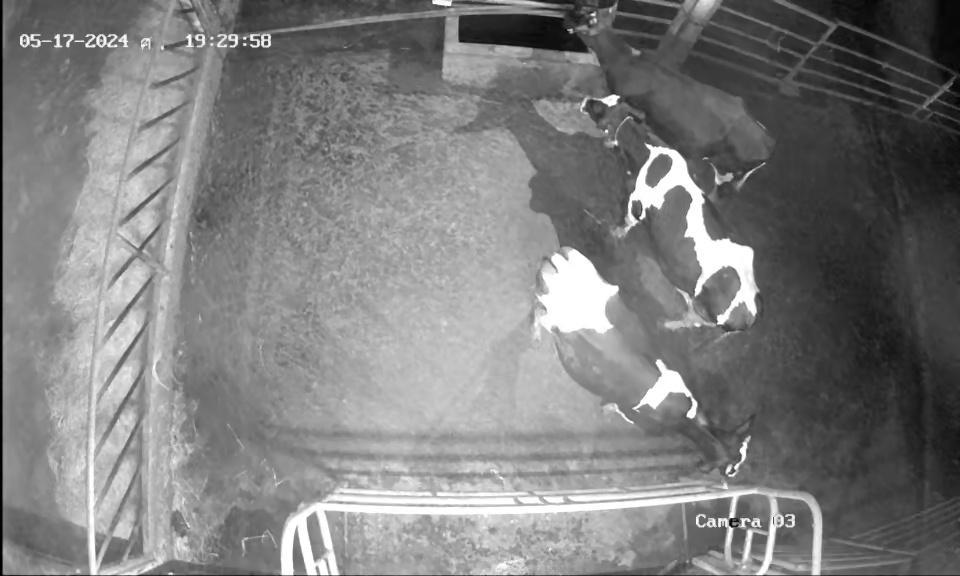drink: (544, 3, 631, 88)
stand: (520, 242, 757, 478), (581, 93, 781, 340)
